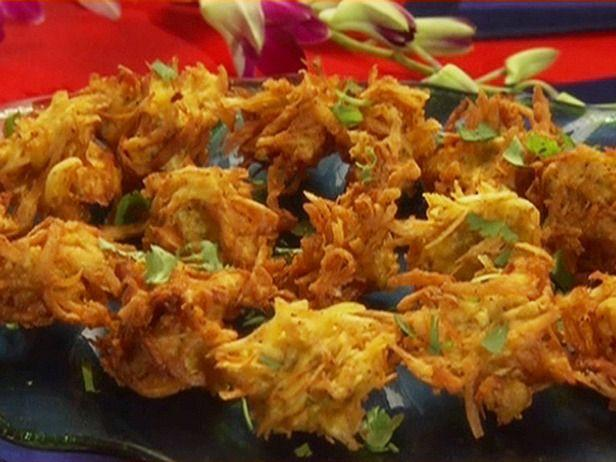OnionPakoda: (0, 56, 616, 459)
